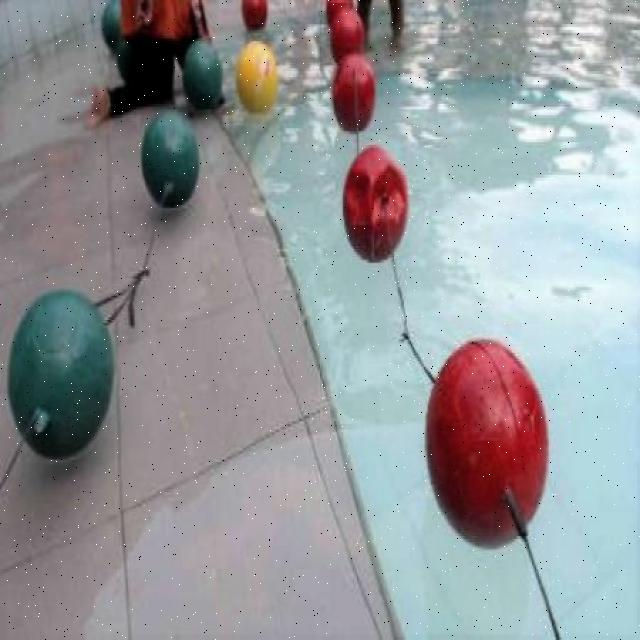buoy: (424, 338, 549, 548), (6, 288, 115, 457), (343, 145, 408, 260), (138, 108, 200, 209), (330, 51, 375, 130), (235, 40, 276, 114), (182, 39, 222, 110), (329, 6, 364, 65), (100, 1, 120, 53), (240, 0, 268, 27)
